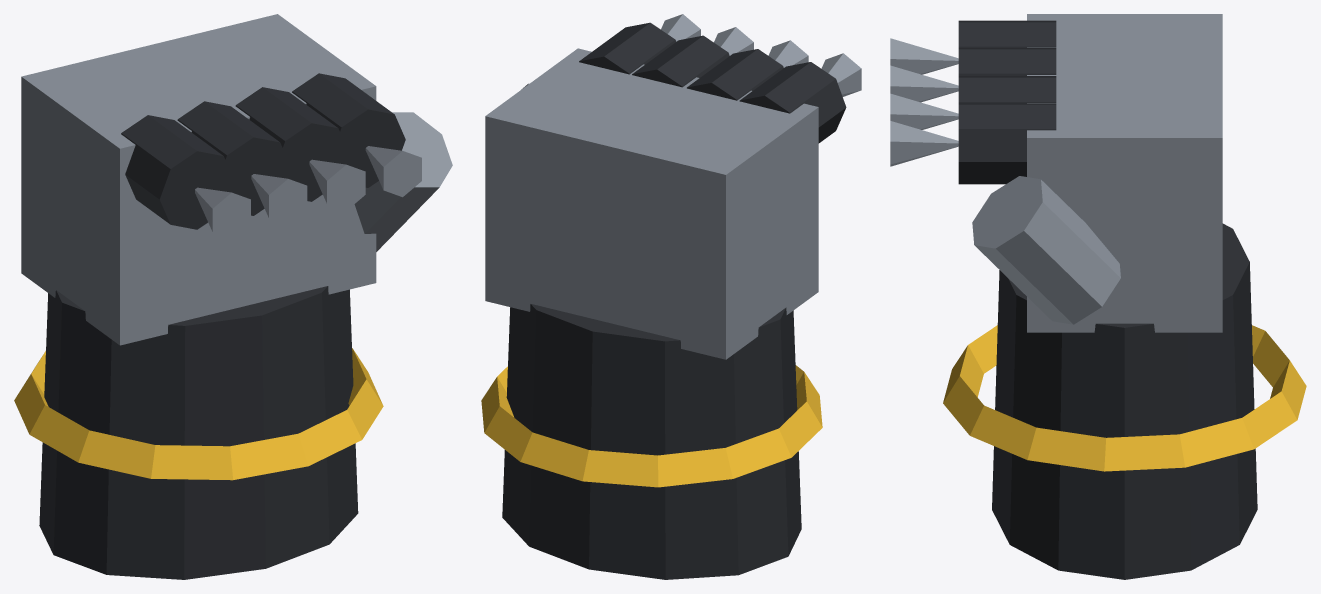
Rendered from GearGauntlet.obj.
3 views of the same model, side by side, from view 1: azimuth 30°, elevation 25°; view 2: azimuth 150°, elevation 25°; view 3: azimuth 270°, elevation 25° (orthographic). The views are drawn at different scales.
Parts seen in each view (by area): view 1: GearGauntlet; view 2: GearGauntlet; view 3: GearGauntlet.
Part boxes in pixels (left/top/right/bottom): GearGauntlet: left=14, top=14, right=452, bottom=579; GearGauntlet: left=481, top=14, right=861, bottom=579; GearGauntlet: left=890, top=14, right=1306, bottom=579.
Bounding box in the file's own units: 0.2055 × 0.252 × 0.2131.
